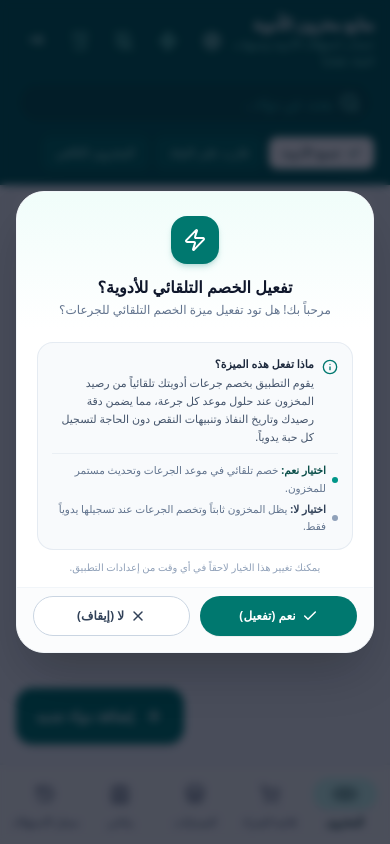
Test: Auto-Deduction First Run Prompt Integration › disables auto-deduct and closes modal when user chooses "لا"
This screenshot has width=390, height=844.
Expected: the heading "تفعيل الخصم التلقائي للأدوية؟" is shown, left=98, top=276, right=292, bottom=298
Click the button "لا (إيقاف)" at (112, 616), box left=33, top=596, right=190, bottom=636
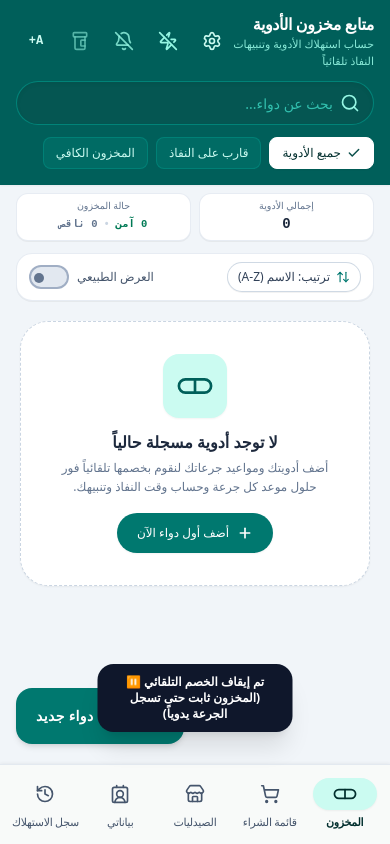
Expected: the heading "تفعيل الخصم التلقائي للأدوية؟" is gone
